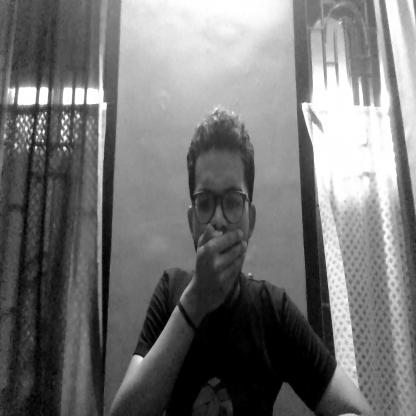Normal: (177, 100, 257, 298)
